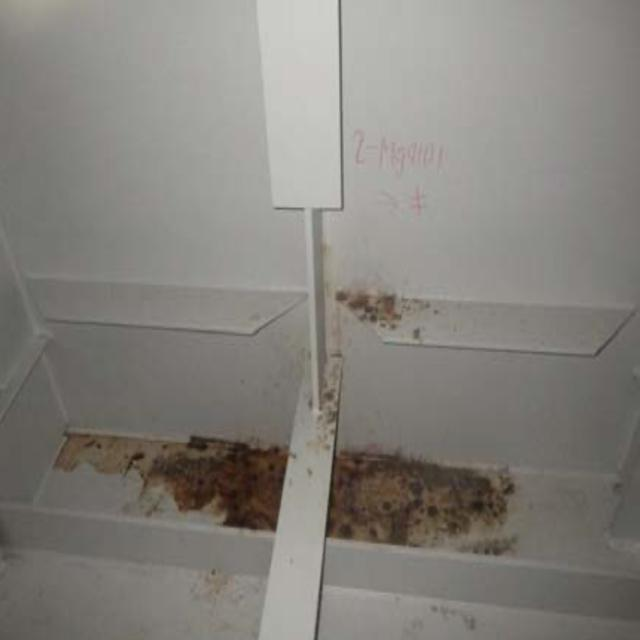corrosion: (33, 400, 526, 546)
